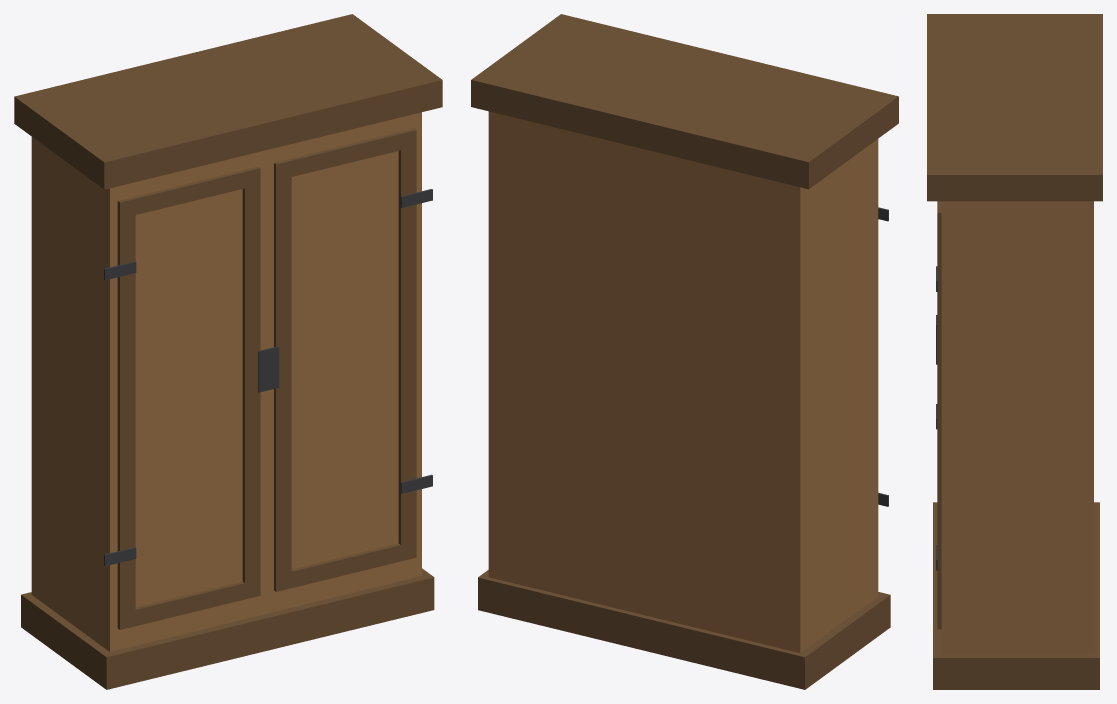
Rendered from Press.fbx.
3 views of the same model, side by side, from view 1: azimuth 30°, elevation 25°; view 2: azimuth 150°, elevation 25°; view 3: azimuth 270°, elevation 25° (orthographic). The views are drawn at different scales.
Visible parts, largest first — view 1: Press; view 2: Press; view 3: Press.
Boxes of the visible parts, box(x1,y1,x2,y2) form: Press: box(14, 14, 442, 689); Press: box(471, 14, 898, 689); Press: box(927, 14, 1102, 689).
Size of the model in its own units: 1.3 by 1.95 by 0.6.
